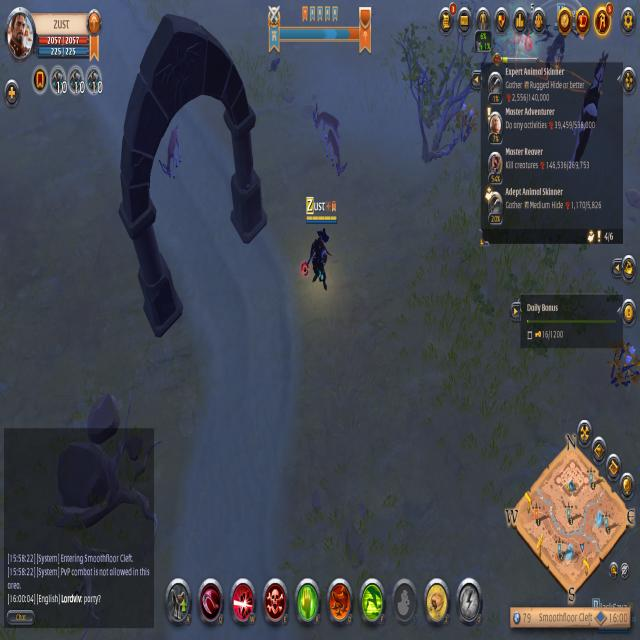deer_alive: (158, 126, 192, 182), (308, 100, 348, 145), (325, 130, 350, 186)
